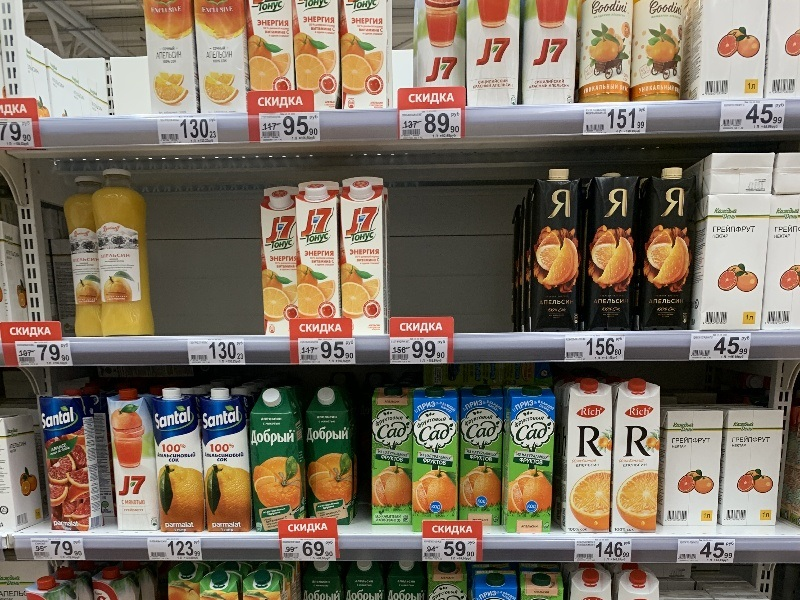juice: (32, 386, 107, 538), (191, 384, 260, 540), (583, 166, 647, 332), (148, 386, 216, 538), (339, 174, 398, 342), (605, 374, 665, 537), (529, 164, 587, 332), (561, 376, 620, 539), (642, 163, 697, 337), (105, 385, 167, 538), (244, 384, 307, 532), (452, 381, 513, 532), (500, 383, 557, 540), (296, 174, 349, 335), (411, 380, 464, 535), (299, 387, 355, 526), (260, 181, 308, 341), (368, 384, 416, 533)
